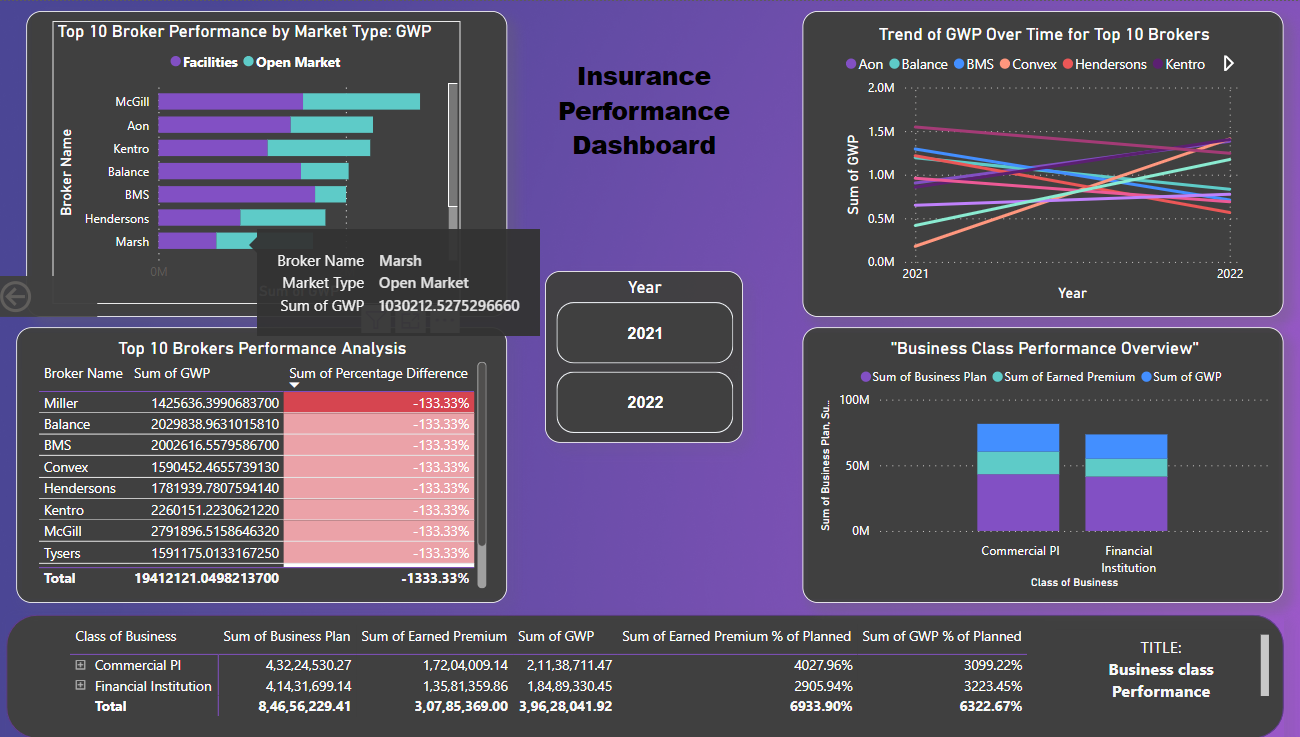

This screenshot's page, from the dashboard's own definition file:
{"tool":"powerbi","page":{"name":"Page 1","canvas":[1280,720],"ordinal":0},"visuals":[{"type":"shape","box":[11.1,599.7,1249.4,121],"z":0},{"type":"shape","box":[790.3,9.7,470.3,299.1],"z":1000},{"type":"shape","box":[30.6,9.7,470.3,299.1],"z":2000},{"type":"shape","box":[790.3,318.6,470.3,269.9],"z":3000},{"type":"shape","box":[20.9,318.6,480,269.9],"z":4000},{"type":"tableEx","title":"Top 10 Brokers Performance Analysis","fields":{"Values":["Broker stats.Broker Name","Sum(Broker stats.GWP)","Sum(Broker stats.Percentage Difference)"]},"box":[36.2,328.3,449.4,250.4],"z":5000},{"type":"barChart","title":"Top 10 Broker Performance by Market Type: GWP","fields":{"Series":["Broker stats.Market Type"],"Category":["Broker stats.Broker Name"],"Y":["Sum(Broker stats.GWP)"]},"box":[55.7,19.5,400.7,276.9],"z":6000},{"type":"lineChart","title":"Trend of GWP Over Time for Top 10 Brokers","fields":{"Category":["Broker stats.Year"],"Y":["Sum(Broker stats.GWP)"],"Series":["Broker stats.Broker Name"]},"box":[826.4,22.3,399.3,276.9],"z":7000},{"type":"actionButton","box":[0,268.5,100.2,40.3],"z":8000},{"type":"pivotTable","fields":{"Rows":["Class stats.Class of Business","Class stats.ClassType"],"Values":["Sum(Class stats.Business Plan)","Sum(Class stats.Earned Premium)","Sum(Class stats.GWP )","Sum(Class stats.Earned Premium % of Planned)","Sum(Class stats.GWP % of Planned)"]},"box":[68.2,605.2,958.6,111.3],"z":9000},{"type":"columnChart","title":"\"Business Class Performance Overview\"","fields":{"Category":["Class stats.Class of Business"],"Y":["Sum(Class stats.Business Plan)","Sum(Class stats.Earned Premium)","Sum(Class stats.GWP )"]},"box":[801.4,328.3,449.4,250.4],"z":10000},{"type":"advancedSlicerVisual","fields":{"Values":["Broker stats.Year"]},"box":[538.4,264.3,193.4,168.3],"z":11000},{"type":"textbox","box":[538.4,51.5,193.4,122.4],"z":12000},{"type":"textbox","box":[1037.9,615,212.9,72.3],"z":12001}]}

Visuals, with their boxes in screenshot pixels (x1, y1, x2, y2), scaled from the page's 1280x720 canvas onto the 1300x737 screenshot:
shape: 11:614:1280:736
shape: 803:10:1280:316
shape: 31:10:509:316
shape: 803:326:1280:602
shape: 21:326:509:602
"Top 10 Brokers Performance Analysis" tableEx: 37:336:493:592
"Top 10 Broker Performance by Market Type: GWP" barChart: 57:20:464:303
"Trend of GWP Over Time for Top 10 Brokers" lineChart: 839:23:1245:306
actionButton: 0:275:102:316
pivotTable - Class stats.Class of Business x Class stats.ClassType: 69:619:1043:733
""Business Class Performance Overview"" columnChart: 814:336:1270:592
advancedSlicerVisual - Broker stats.Year: 547:271:743:443
textbox: 547:53:743:178
textbox: 1054:630:1270:704
